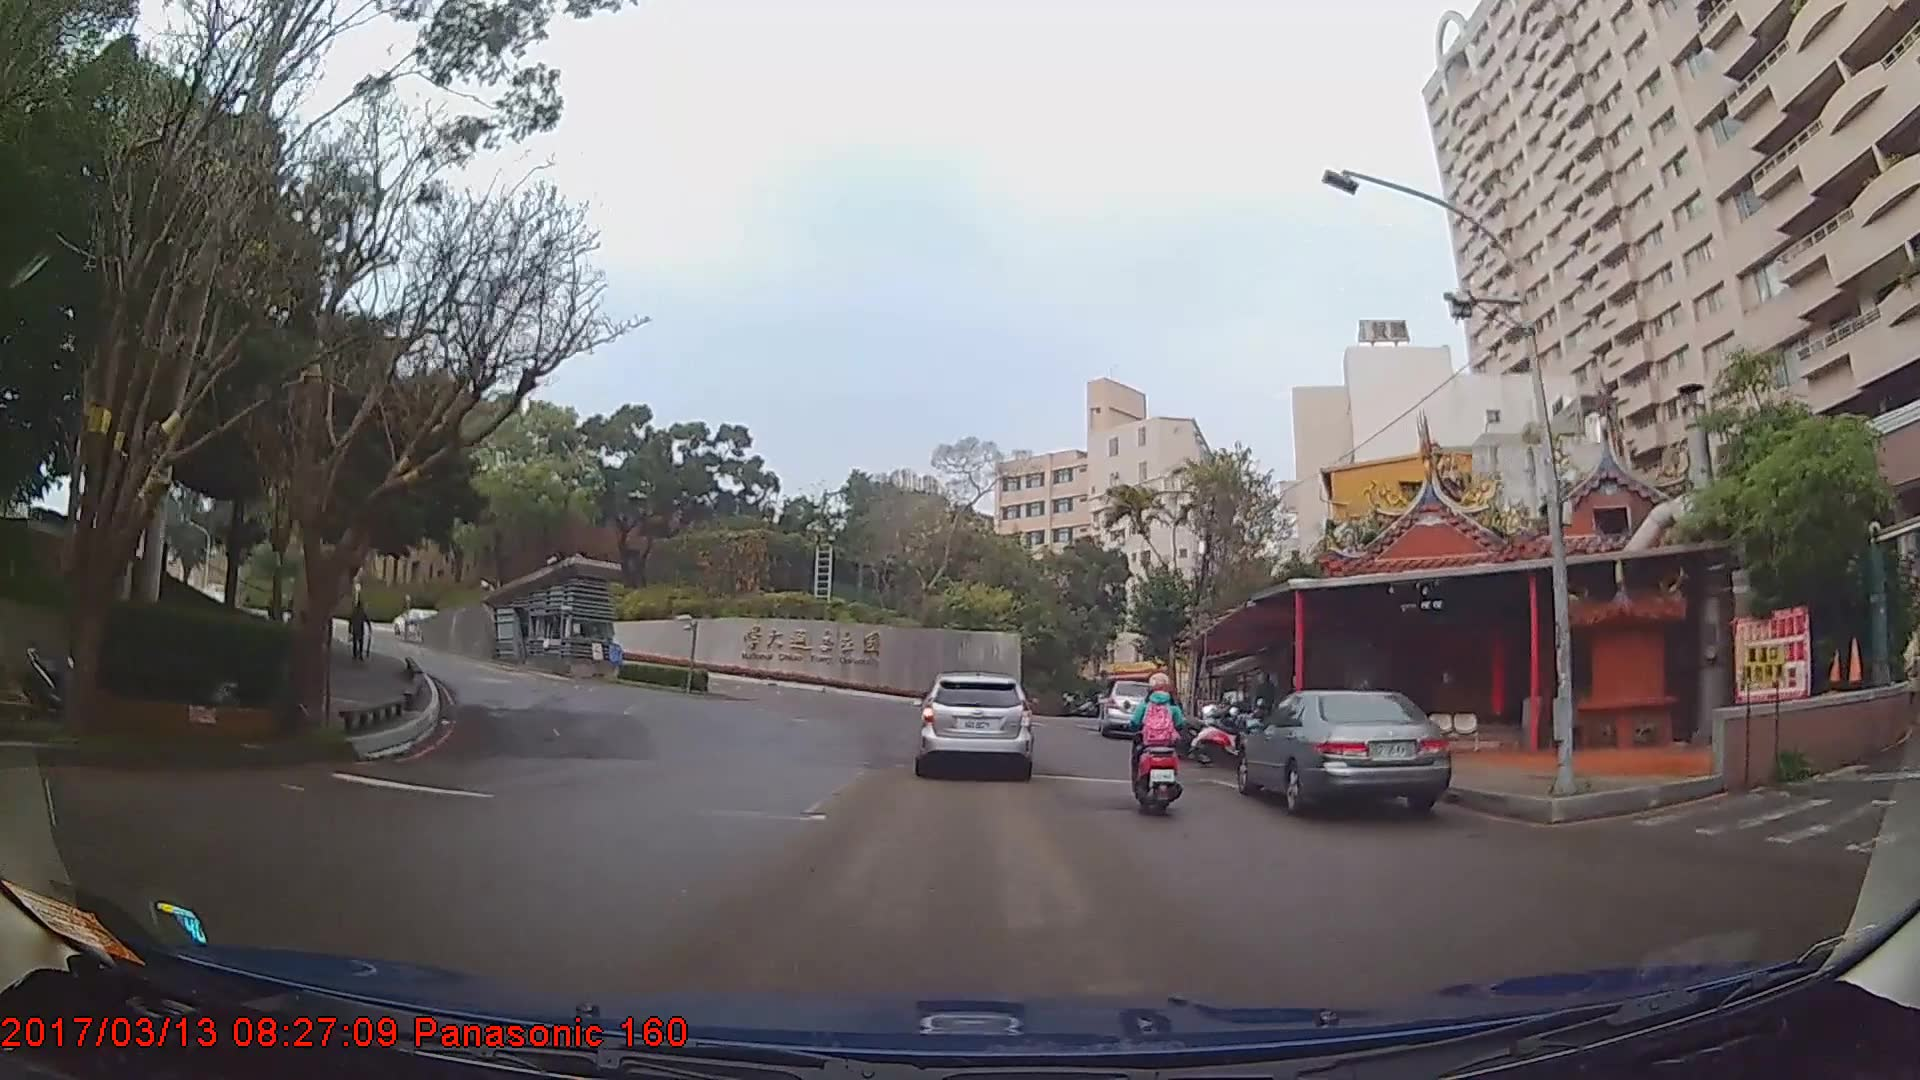pedestrian: (349, 600, 375, 661), (1255, 673, 1278, 737)
rider: (1128, 659, 1193, 813)
vehicle: (1235, 688, 1451, 819), (915, 669, 1031, 777), (1099, 677, 1162, 735)
